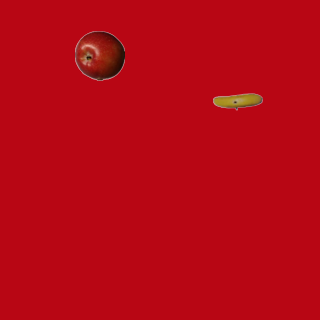Apple Braeburn: (74, 30, 124, 80)
Banana: (212, 76, 262, 126)
